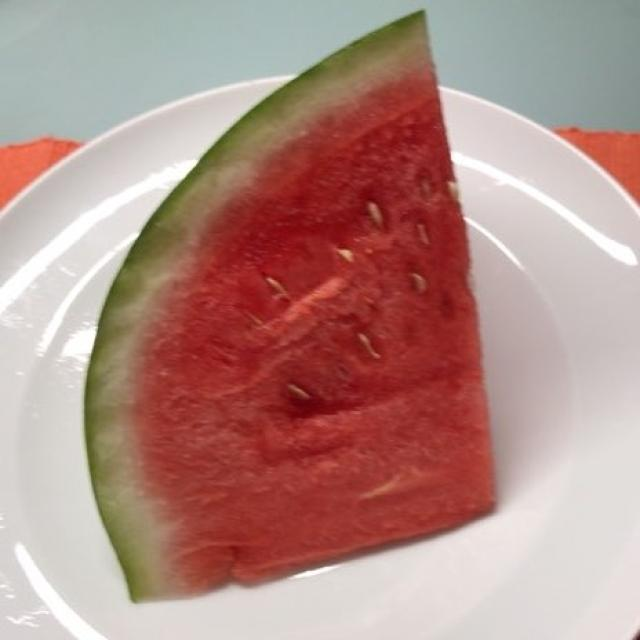watermelon-fresh: (92, 24, 488, 580)
